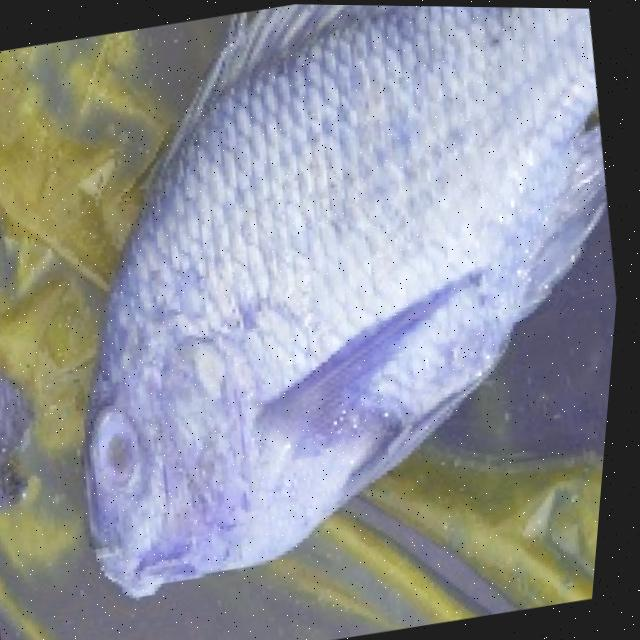Non-Fresh: (0, 0, 640, 612), (71, 382, 190, 521)
